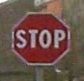stop: (9, 10, 70, 65)
